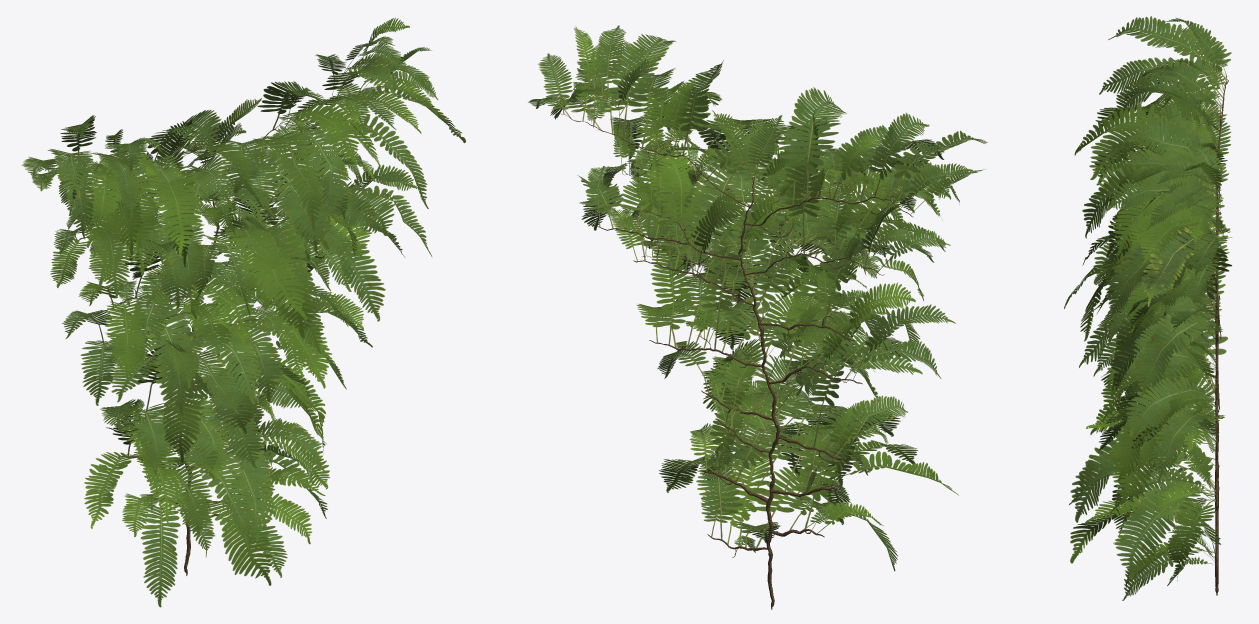
File: fern2.glb
The picture shows the model from 3 angles, left to right: view 1: azimuth 30°, elevation 25°; view 2: azimuth 150°, elevation 25°; view 3: azimuth 270°, elevation 25°; orthographic projection. The views are drawn at different scales.
Parts seen in each view (by area): view 1: Polypodium_vulgare_HD_Polypodium_01b_0, Polypodium_vulgare_HD_Polypodium_01a_0, Polypodium_vulgare_HD_Polypodium root_0, Polypodium_vulgare_HD_Polypodium_01c_0; view 2: Polypodium_vulgare_HD_Polypodium_01b_0, Polypodium_vulgare_HD_Polypodium_01a_0, Polypodium_vulgare_HD_Polypodium root_0; view 3: Polypodium_vulgare_HD_Polypodium_01b_0, Polypodium_vulgare_HD_Polypodium_01a_0, Polypodium_vulgare_HD_Polypodium_01c_0, Polypodium_vulgare_HD_Polypodium root_0.
Boxes of the visible parts, box(x1,y1,x2,y2) form: Polypodium_vulgare_HD_Polypodium_01b_0: box(21, 36, 438, 607); Polypodium_vulgare_HD_Polypodium_01a_0: box(30, 17, 440, 585); Polypodium_vulgare_HD_Polypodium root_0: box(70, 69, 383, 575); Polypodium_vulgare_HD_Polypodium_01c_0: box(253, 83, 465, 432); Polypodium_vulgare_HD_Polypodium_01b_0: box(528, 25, 987, 571); Polypodium_vulgare_HD_Polypodium_01a_0: box(569, 26, 985, 548); Polypodium_vulgare_HD_Polypodium root_0: box(560, 89, 913, 609); Polypodium_vulgare_HD_Polypodium_01b_0: box(1069, 16, 1232, 600); Polypodium_vulgare_HD_Polypodium_01a_0: box(1064, 33, 1231, 589); Polypodium_vulgare_HD_Polypodium_01c_0: box(1141, 226, 1222, 454); Polypodium_vulgare_HD_Polypodium root_0: box(1214, 76, 1228, 595).
Size of the model in its own units: 1.17 by 1.28 by 0.4338.
4 materials, 4 textured.
